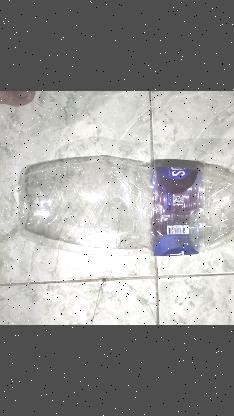Plastic Bottle: (17, 155, 234, 257), (150, 159, 234, 257)
